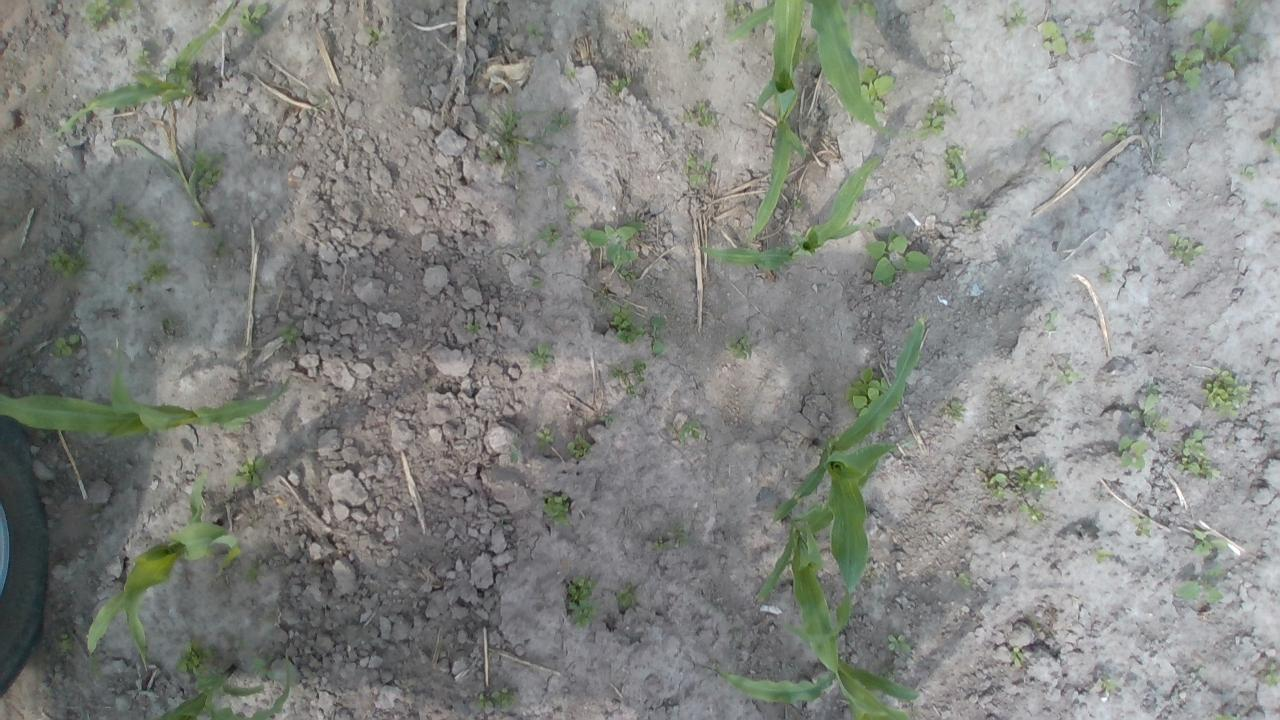Maize: (768, 320, 924, 638), (754, 458, 891, 720), (86, 474, 245, 675), (1, 340, 292, 441), (45, 0, 238, 139), (698, 152, 882, 278), (725, 1, 884, 134), (107, 117, 216, 232), (750, 0, 801, 242), (720, 656, 918, 709), (162, 661, 290, 720)
Weeds: (980, 464, 1060, 524), (862, 236, 931, 285), (484, 103, 527, 168), (582, 226, 638, 268), (1176, 426, 1218, 480), (1200, 370, 1247, 415), (1192, 19, 1237, 64), (1178, 564, 1226, 602), (847, 366, 884, 414), (1166, 44, 1200, 87), (863, 66, 893, 112), (1166, 231, 1202, 265), (230, 454, 266, 488), (1116, 434, 1148, 472), (1228, 0, 1266, 31), (1040, 21, 1070, 59), (174, 638, 207, 672), (84, 0, 116, 35), (239, 4, 272, 37), (612, 363, 647, 393), (48, 250, 86, 274), (650, 312, 671, 354), (610, 308, 636, 341), (128, 220, 158, 248), (1132, 386, 1154, 424), (684, 99, 716, 125), (1192, 528, 1226, 552), (542, 498, 572, 523), (1040, 146, 1068, 172), (217, 549, 240, 579), (1004, 1, 1026, 32), (530, 341, 554, 369), (686, 159, 708, 188), (568, 601, 594, 625), (919, 110, 943, 136), (567, 430, 590, 457), (886, 634, 914, 656), (1102, 123, 1129, 145), (942, 396, 964, 423), (53, 334, 80, 356), (850, 1, 879, 20), (568, 576, 594, 597), (552, 112, 574, 136), (468, 695, 494, 715), (1259, 659, 1279, 685), (1263, 124, 1280, 154), (494, 686, 516, 709), (626, 27, 648, 49), (1076, 22, 1096, 46), (618, 584, 636, 610), (722, 4, 748, 22), (144, 261, 165, 283), (112, 204, 130, 229), (202, 170, 222, 192), (1154, 0, 1185, 14), (246, 561, 264, 585), (1154, 415, 1174, 436), (964, 207, 985, 226), (1045, 306, 1060, 332), (191, 150, 215, 166), (276, 322, 292, 346), (1008, 645, 1026, 666), (678, 421, 696, 441), (364, 22, 382, 42), (945, 145, 963, 165), (1138, 110, 1163, 124), (732, 334, 748, 354), (536, 428, 552, 448), (940, 4, 954, 26), (1061, 368, 1080, 384), (252, 658, 268, 677), (610, 77, 626, 96), (61, 632, 76, 652), (532, 126, 547, 146), (1136, 516, 1152, 534), (544, 224, 558, 244), (690, 41, 704, 61), (524, 22, 547, 34), (794, 195, 808, 214), (948, 172, 964, 188), (1239, 164, 1255, 179), (956, 576, 971, 592), (866, 216, 880, 232), (1099, 270, 1113, 286), (620, 266, 636, 280), (671, 526, 687, 540), (136, 50, 152, 64), (565, 205, 581, 218), (1096, 548, 1110, 562), (1215, 711, 1235, 720), (1100, 678, 1110, 694), (926, 101, 946, 109), (601, 413, 614, 424), (565, 68, 579, 78), (466, 322, 480, 332), (125, 285, 142, 293), (652, 536, 664, 546)
